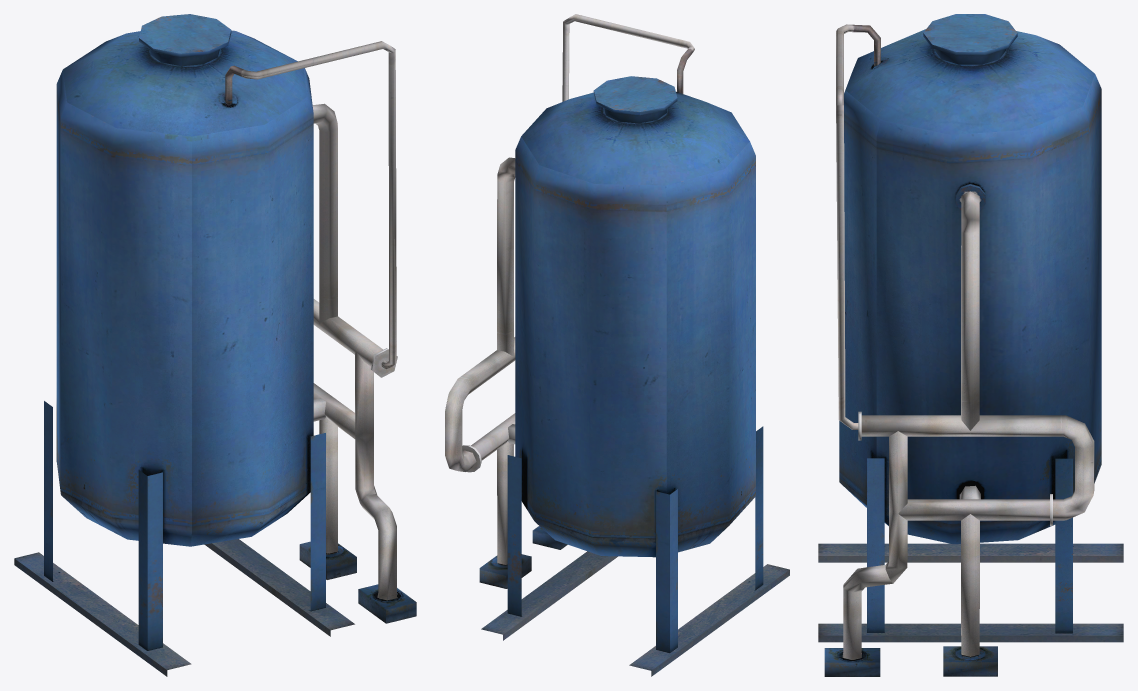
File: Prop_Gl01_lod1.glb
3 renders of one model, left to right at view 1: azimuth 30°, elevation 25°; view 2: azimuth 150°, elevation 25°; view 3: azimuth 270°, elevation 25°, orthographic. The views are drawn at different scales.
Parts seen in each view (by area): view 1: xiutz_gl_01_lod1; view 2: xiutz_gl_01_lod1; view 3: xiutz_gl_01_lod1.
Boxes of the visible parts, <box> form: xiutz_gl_01_lod1: <box>14,14,416,676</box>; xiutz_gl_01_lod1: <box>445,14,789,676</box>; xiutz_gl_01_lod1: <box>818,14,1123,676</box>.
Size of the model in its own units: 2.26 by 4.56 by 2.2.
Materials: 1 (1 with a texture image).
